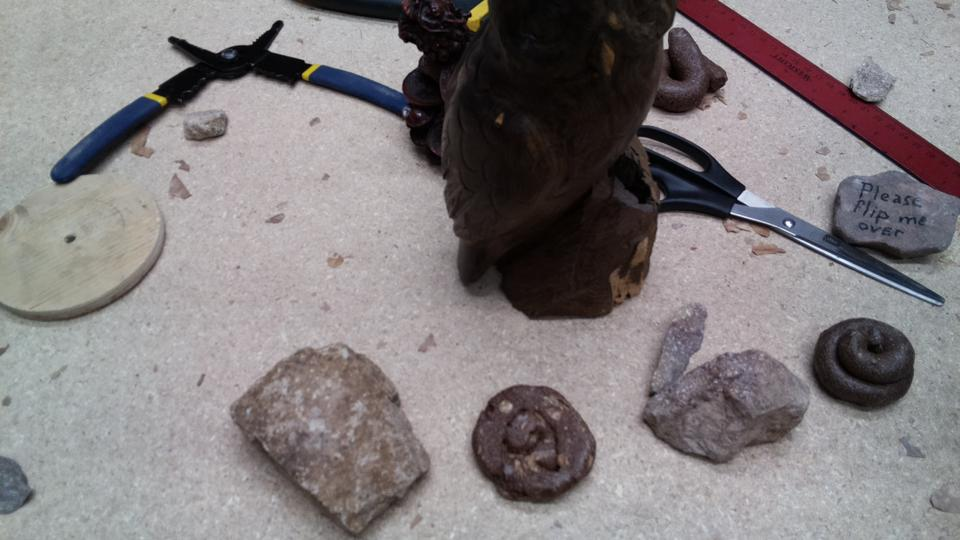poop: (467, 378, 599, 508), (810, 315, 919, 411), (653, 27, 728, 114)
